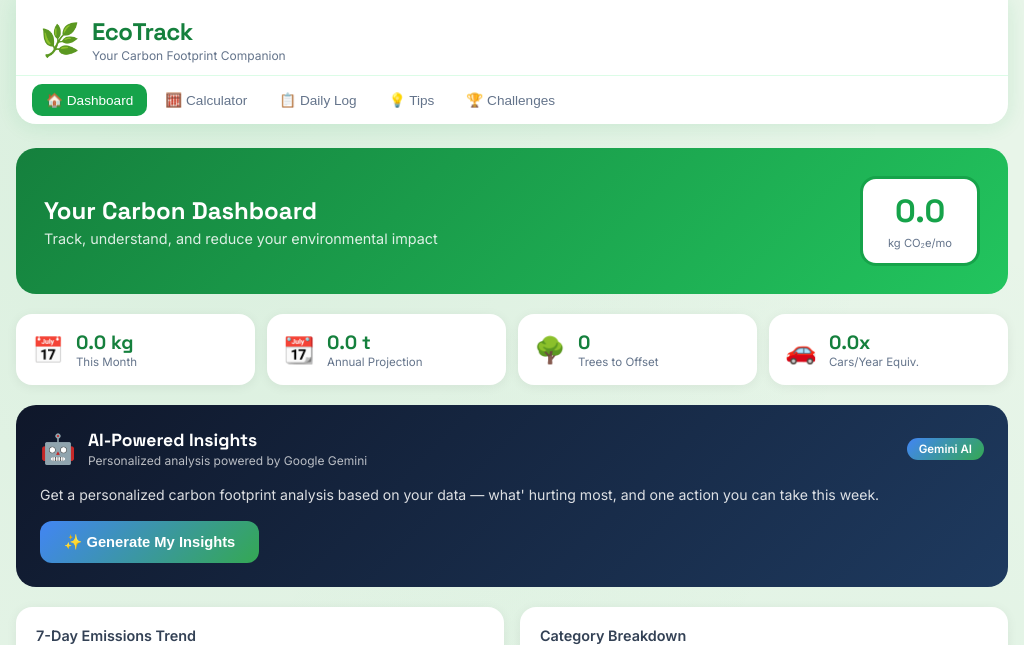
it: App rendering › navigates to challenges tab
Click the button "🏆 Challenges" at (511, 100), box [452, 84, 569, 116]
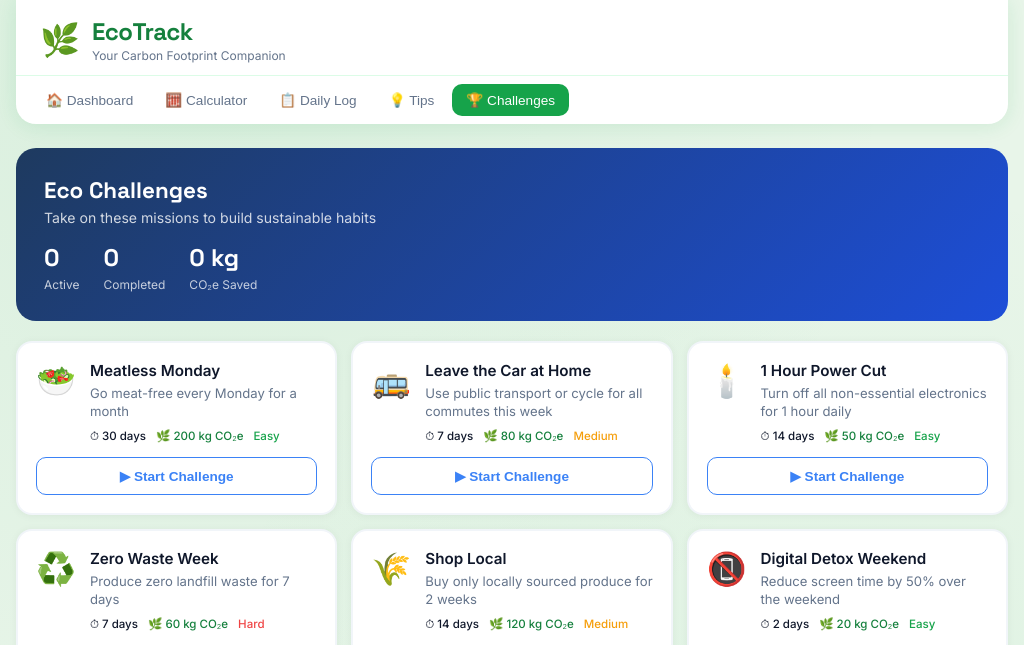
Expected: the heading "Eco Challenges" is shown, [44, 176, 208, 205]
